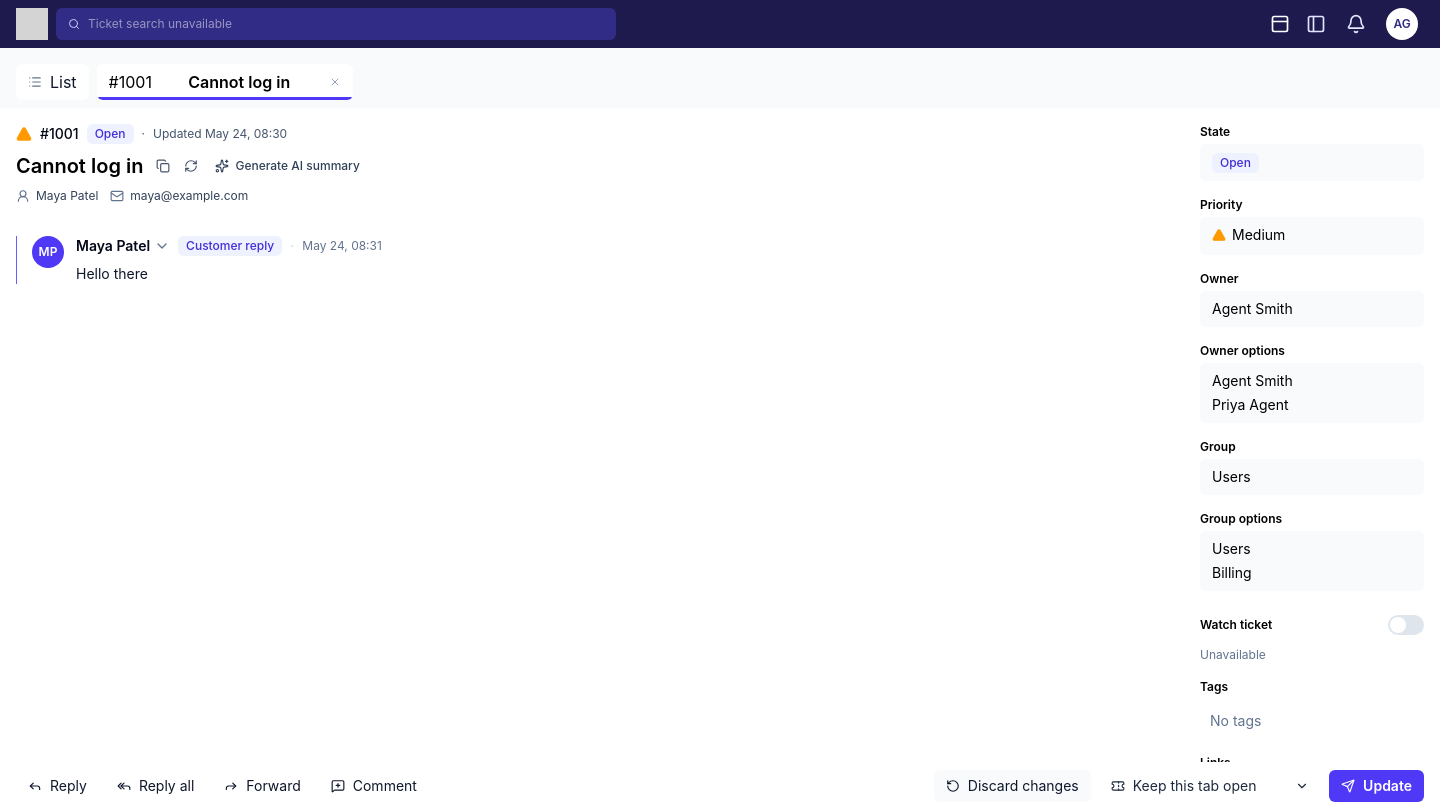
Test case: TicketWorkspace vertical tabs › keeps ticket tabs open across List and orientation switches
expect the checkbox labelled "Select all tickets" is not shown: met
Click the tab with aria-label "Return to list: All tickets": (52, 82) x1=16 y1=64 x2=89 y2=100
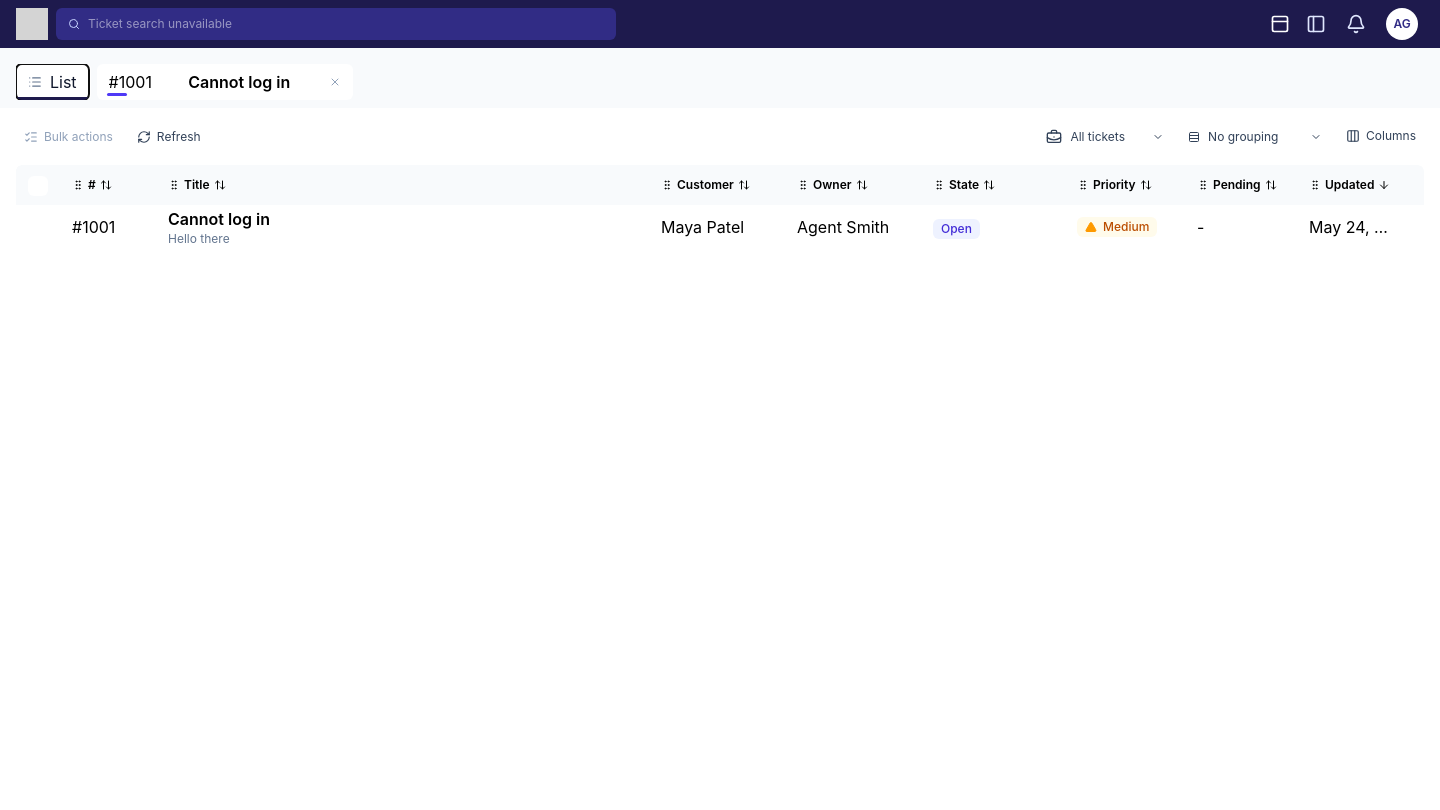
Click the button named "Vertical tabs": (1316, 24) x1=1300 y1=8 x2=1332 y2=40
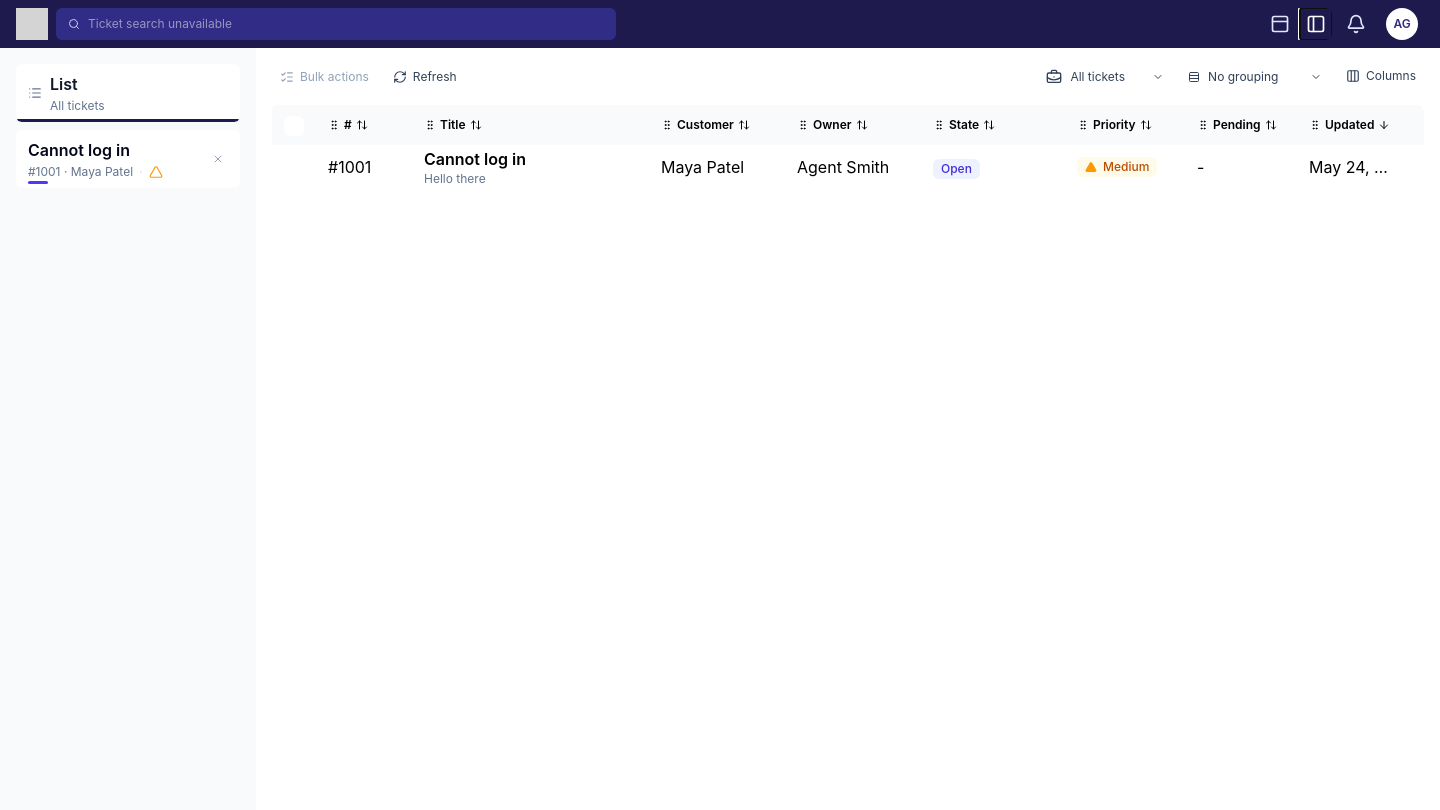
expect the table named "Tickets" is shown: met
expect the button with aria-label "Refresh list" is enabled: met, box x1=385 y1=64 x2=465 y2=88
expect the element named "Priority: Medium" is shown: met, box x1=148 y1=165 x2=162 y2=179
Click the button named "Horizontal tabs": (1280, 24) x1=1264 y1=8 x2=1296 y2=40
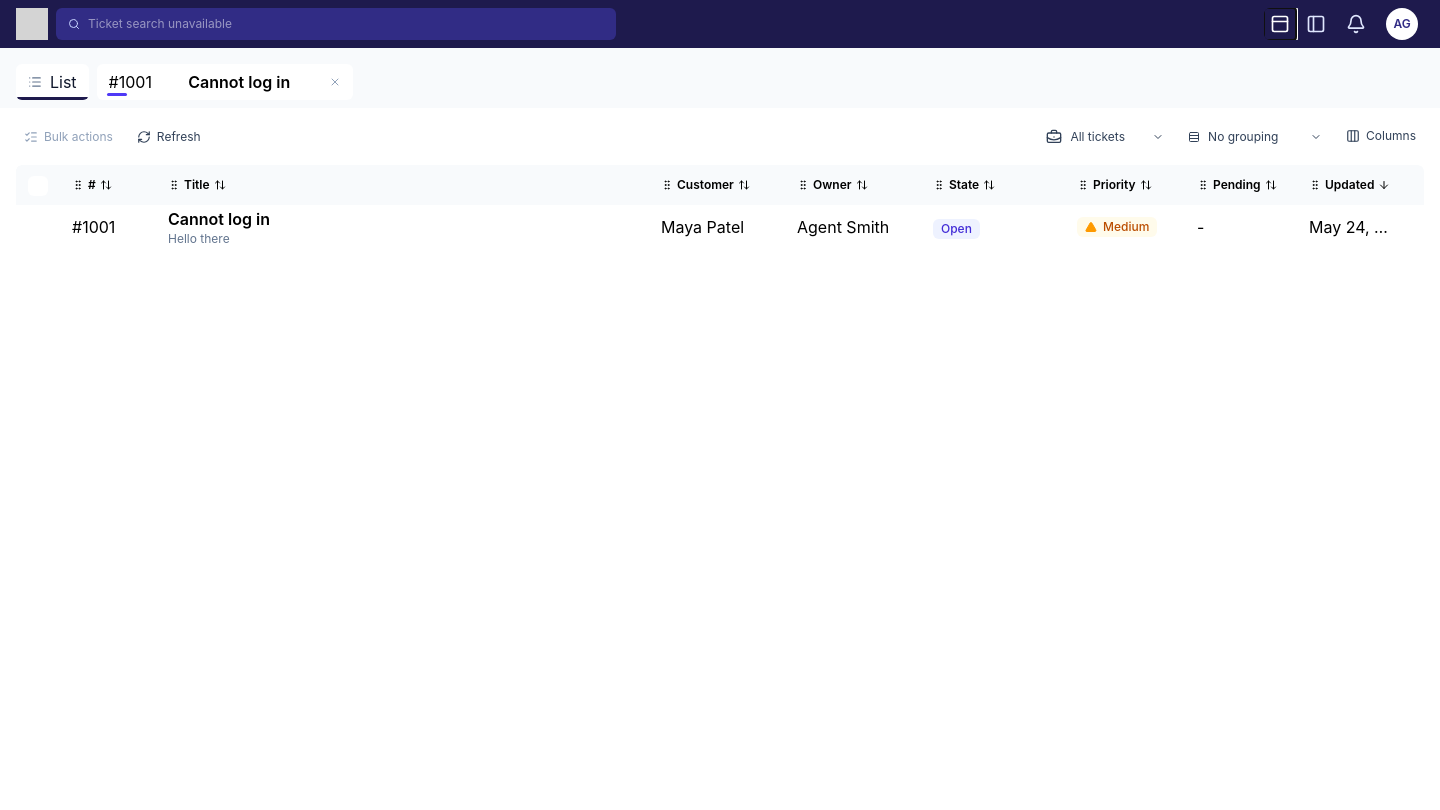
Click the tab "#1001 Cannot log in": (216, 82) x1=109 y1=70 x2=323 y2=94
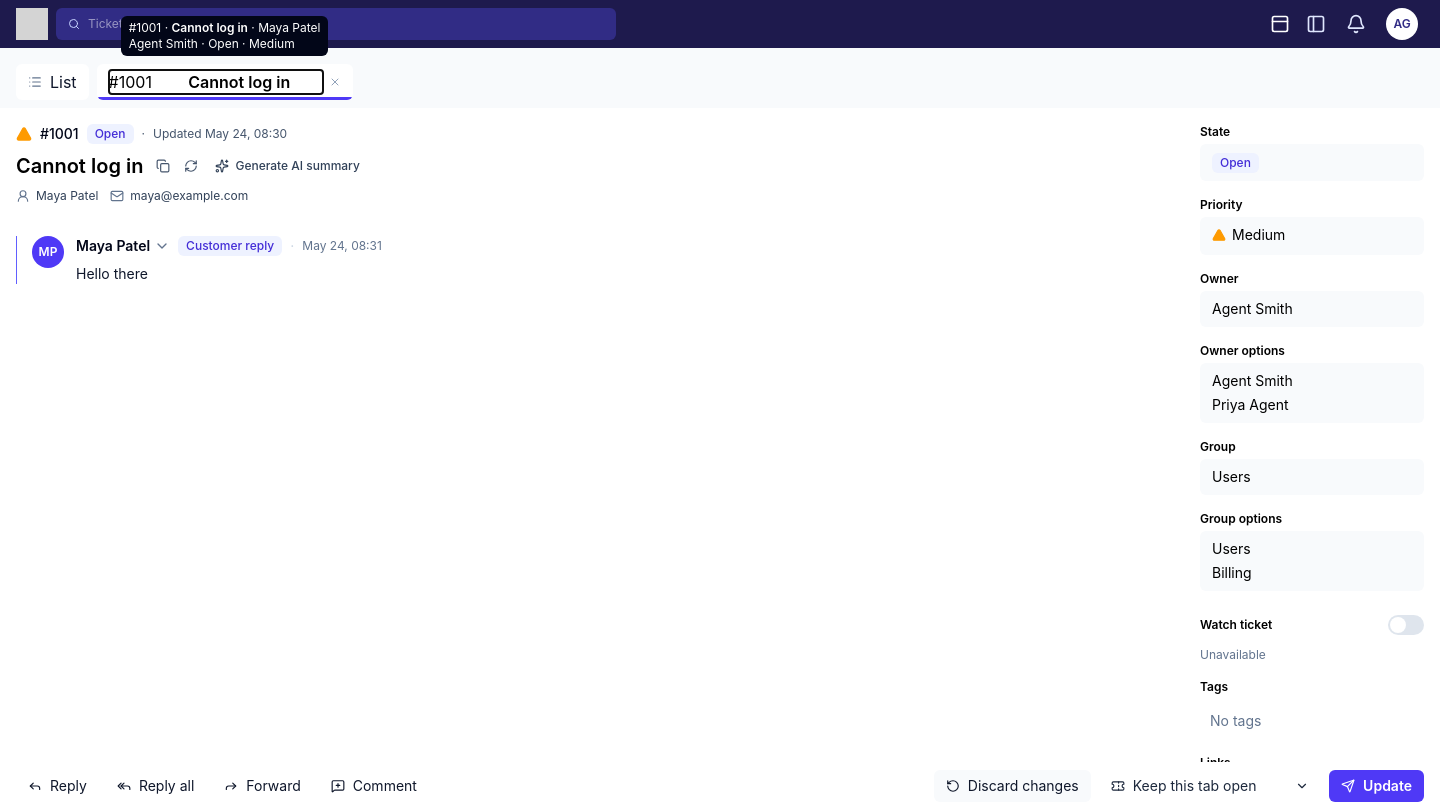
expect the element named "Ticket detail #1001" is shown: met
